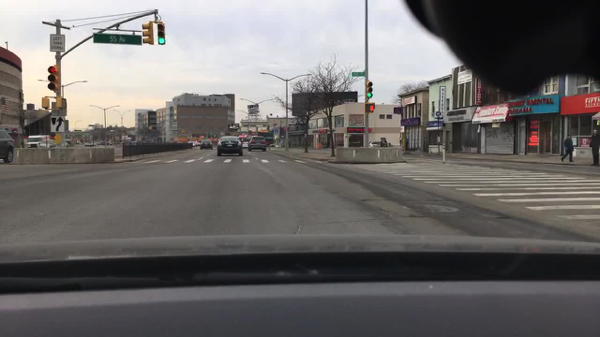car: (216, 136, 244, 159), (0, 128, 17, 164), (26, 134, 50, 148), (249, 135, 267, 152), (40, 137, 56, 148), (368, 140, 390, 148), (199, 139, 213, 151), (242, 137, 252, 148), (59, 141, 71, 147), (188, 141, 197, 147), (195, 140, 202, 147), (89, 142, 98, 147), (101, 142, 112, 146), (85, 142, 90, 147)
person: (560, 133, 574, 163), (588, 128, 599, 166), (384, 139, 389, 149), (380, 140, 384, 149)
traffic light: (155, 20, 167, 47), (46, 65, 57, 94), (141, 22, 154, 46), (367, 80, 375, 100), (364, 102, 378, 113), (41, 96, 52, 109), (57, 98, 67, 110)
traffic sign: (93, 32, 143, 45), (50, 114, 66, 135), (50, 34, 65, 52), (172, 130, 178, 132), (182, 129, 184, 133)
